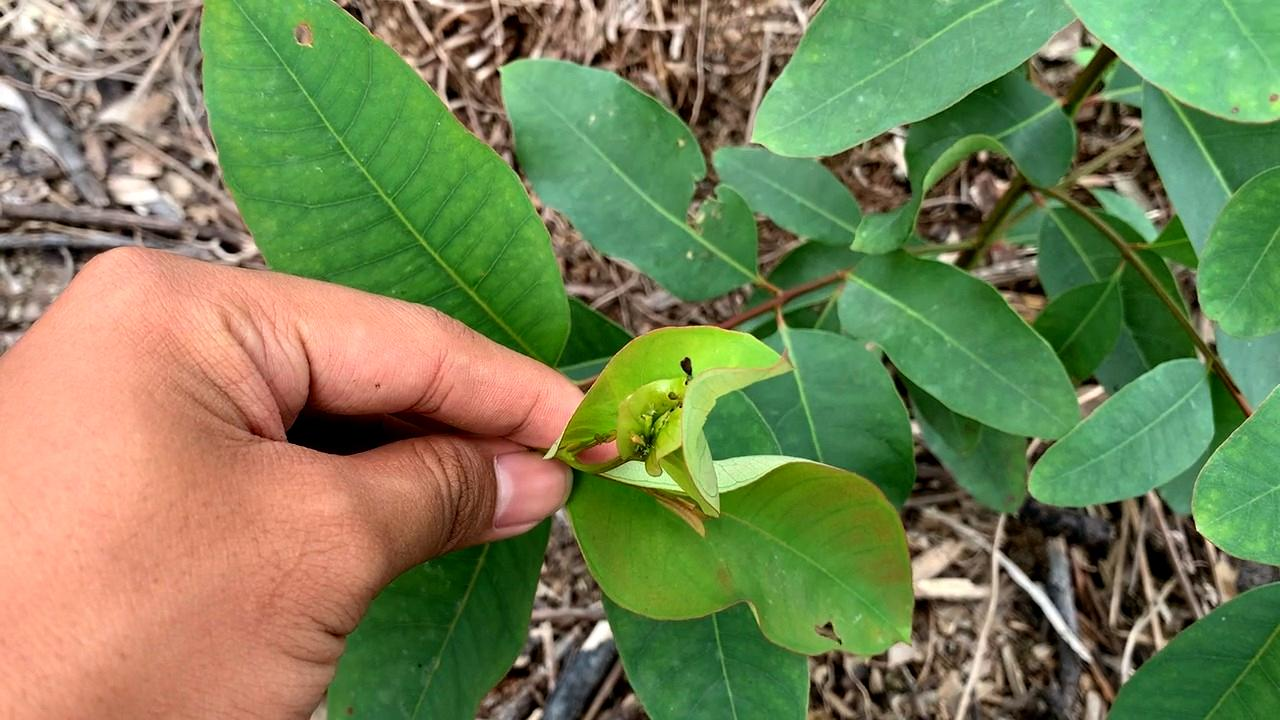Leaf Roller - Leaf: (553, 322, 792, 521)
